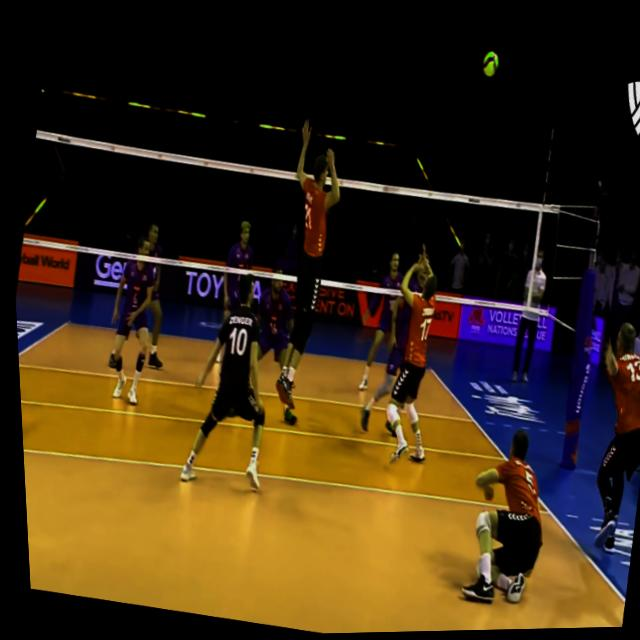player: (250, 115, 359, 409), (165, 261, 289, 488), (361, 241, 459, 474), (447, 428, 556, 616), (559, 318, 640, 564), (92, 234, 164, 408), (103, 218, 183, 373), (344, 248, 420, 396), (237, 264, 310, 397), (210, 219, 262, 325)
